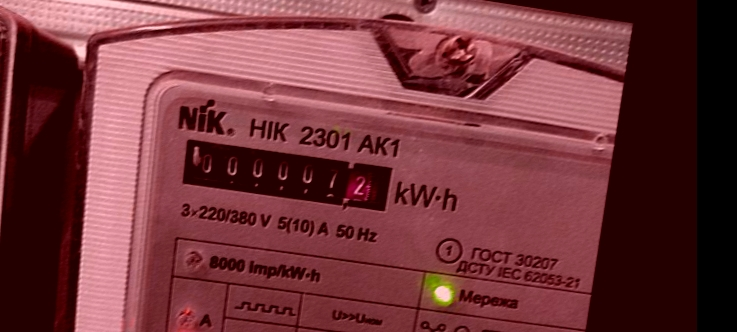0: (274, 159, 292, 184), (198, 150, 215, 176), (249, 156, 266, 181), (299, 162, 315, 187), (224, 154, 240, 178)
2: (351, 174, 367, 199)
7: (325, 166, 340, 191)
screen: (169, 126, 403, 225)
